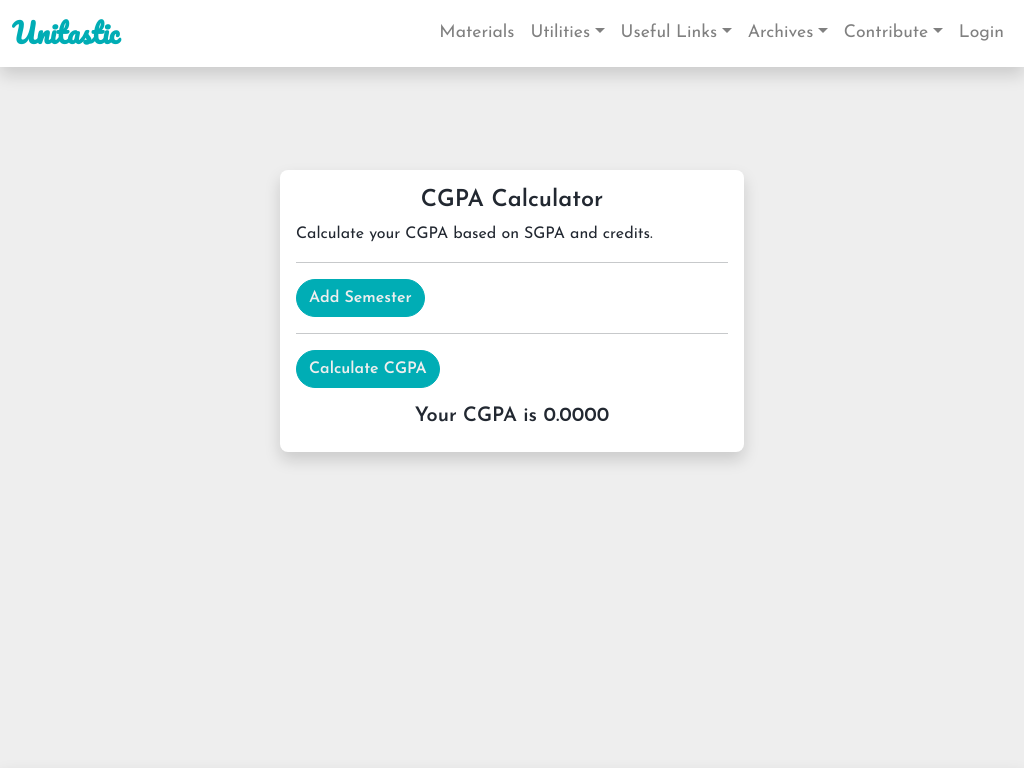
Scenario: CGPACalculator Component › removes semesters correctly
Click the button "Add Semester" at (360, 298), box [296,279,425,317]
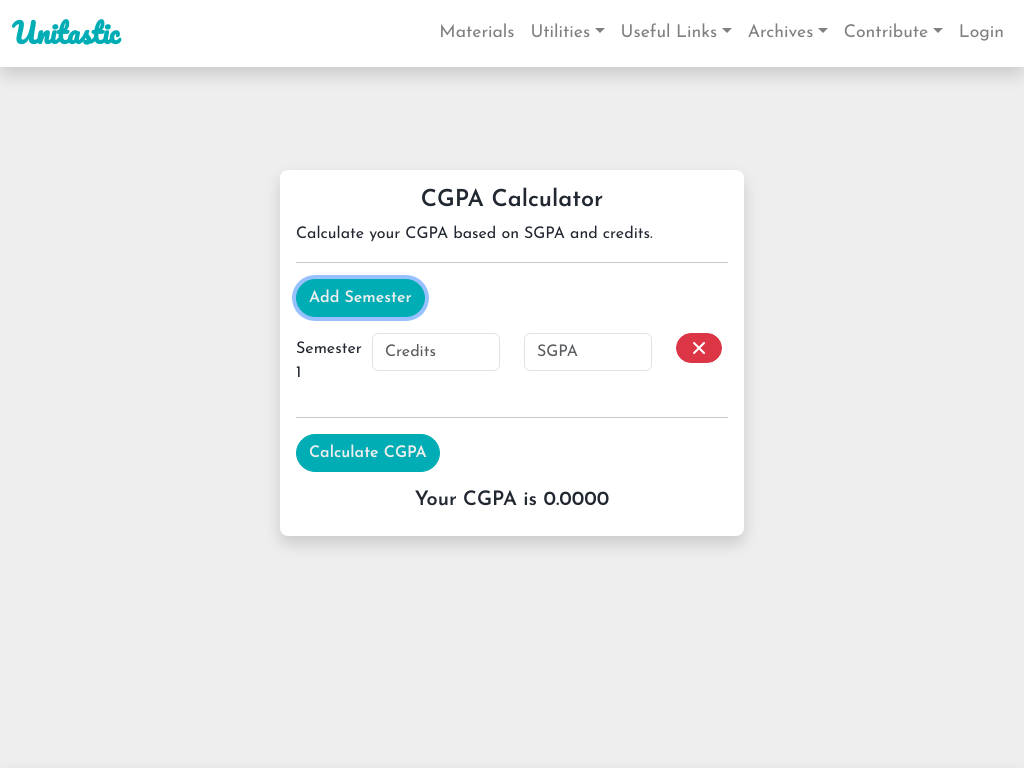
Click the button "Add Semester" at (360, 298), box [296,279,425,317]
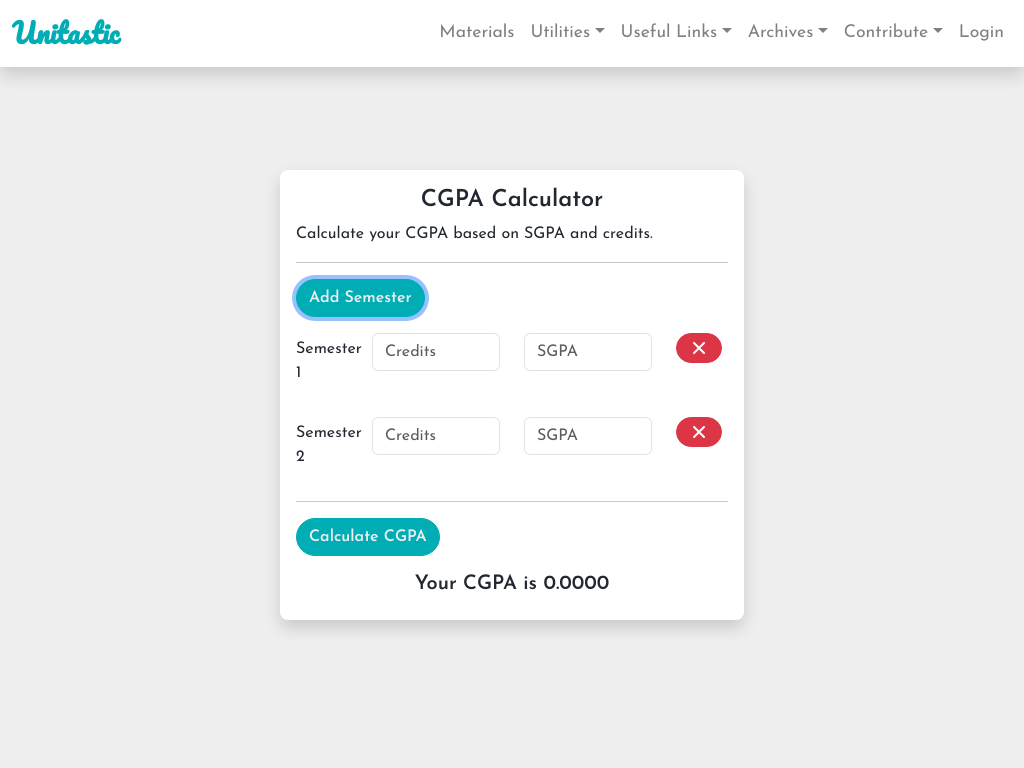
Expected: the text "Semester 1" is shown, [296,337,348,385]
Expected: the text "Semester 2" is shown, [296,421,348,469]
Note: Remove first semester
Click the 1st button with class "btn-danger" at (699, 348), box [676,333,722,363]
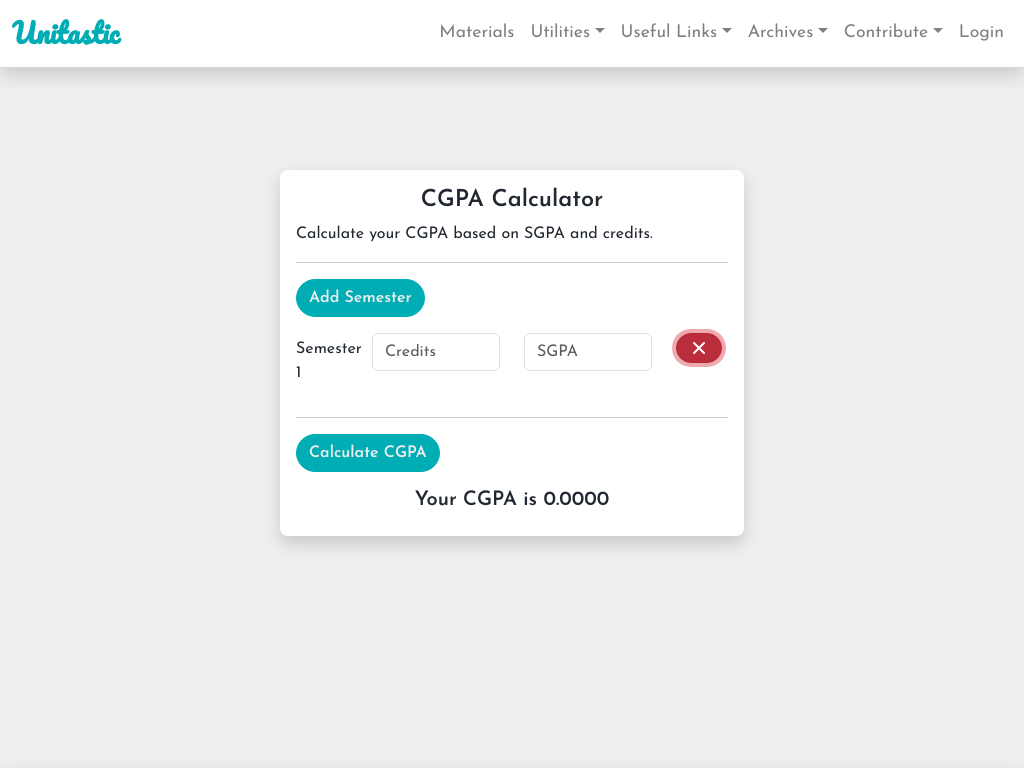
Expected: the text "Semester 1" is shown, [296,337,348,385]
Expected: the text "Semester 2" is gone
